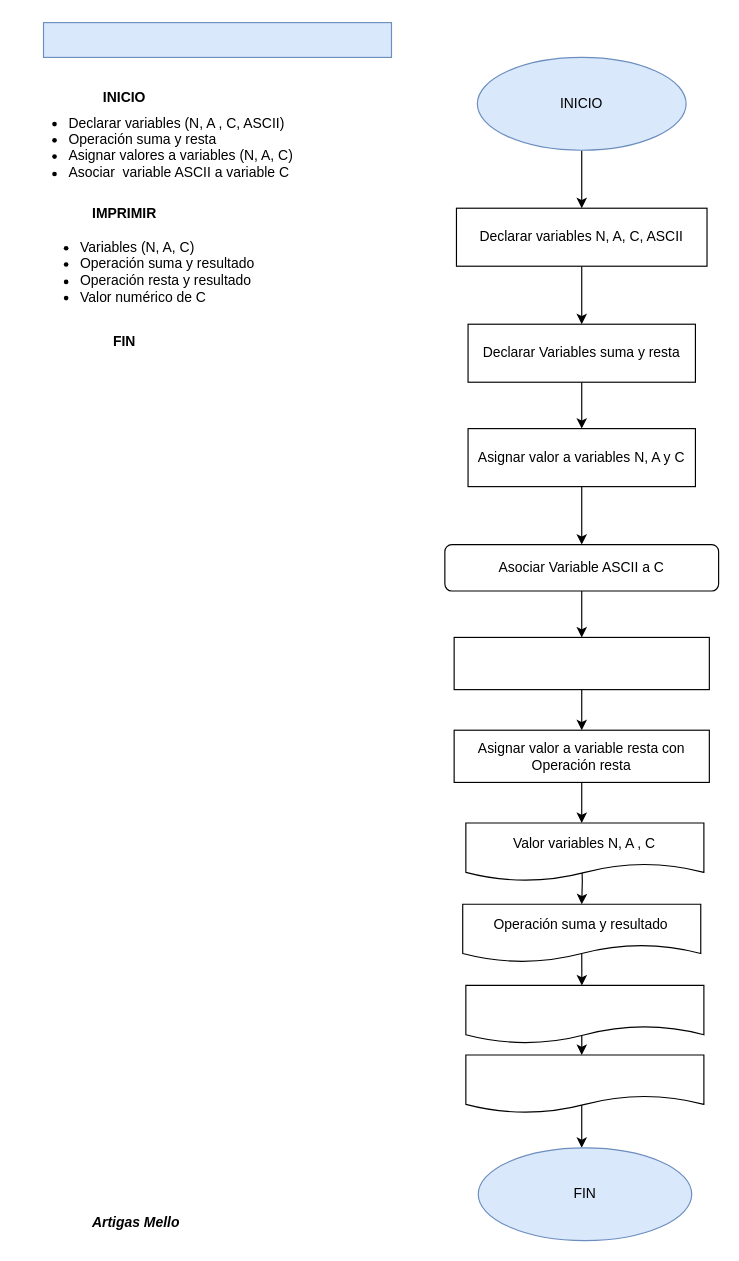
The diagram is 739 pixels wide and 1261 high, and some of its shapes have lost their labels. Here are the shapes that lost their labels. From the top down, the centre of each, then its label:
At pixel 217 39: "Ejercicio 4 - Variables".
At pixel 581 663: "Asignar valor a variable suma con Operación suma".
At pixel 584 1013: "Operación resta y resultado".
At pixel 584 1083: "Valor numérico de C".
